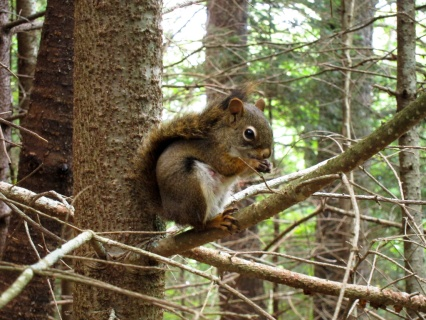Squirrel: (131, 80, 275, 235)
